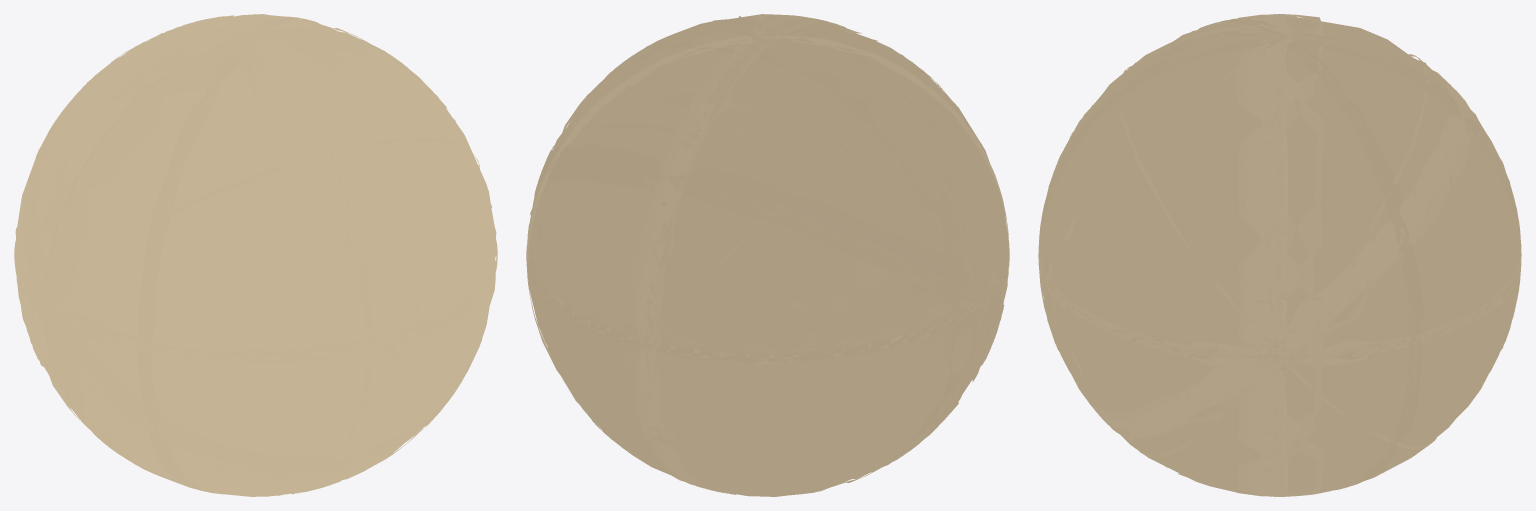
File: overboard.glb
The picture shows the model from 3 angles, left to right: view 1: azimuth 30°, elevation 25°; view 2: azimuth 150°, elevation 25°; view 3: azimuth 270°, elevation 25°; orthographic projection.
Parts seen in each view (by area): view 1: overboard; view 2: overboard; view 3: overboard.
Part boxes in pixels (left/top/right/bottom): overboard: left=14, top=14, right=497, bottom=496; overboard: left=526, top=14, right=1009, bottom=496; overboard: left=1038, top=14, right=1521, bottom=496.
Bounding box in the file's own units: 2 × 2 × 2.
